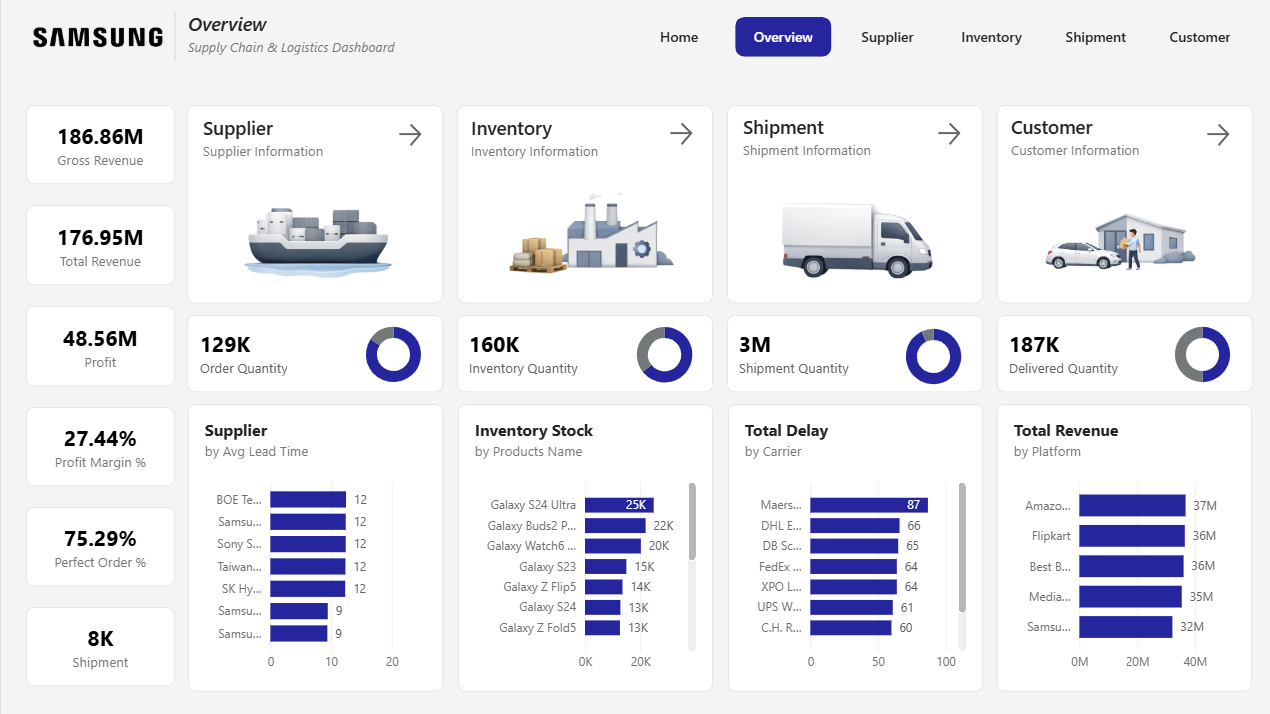

This screenshot's page, from the dashboard's own definition file:
{"tool":"powerbi","page":{"name":"Overview","canvas":[1280,720],"ordinal":1},"visuals":[{"type":"shape","box":[187.5,105.8,258,200],"z":0},{"type":"shape","box":[1003.8,105.8,258,200],"z":1000},{"type":"shape","box":[731.7,105.8,258,200],"z":2000},{"type":"shape","box":[459.6,105.8,258,200],"z":3000},{"type":"image","box":[228.8,167.3,174.4,137.1],"z":4000},{"type":"image","box":[493.9,155.2,191.5,150.2],"z":5000},{"type":"image","box":[773,178.4,175.4,114.9],"z":6000},{"type":"image","box":[1046.2,178.4,172.3,126],"z":7000},{"type":"actionButton","box":[390,115.9,44.3,39.3],"z":8000},{"type":"shape","title":"Supplier","box":[203.6,115.9,161.3,51.4],"z":9000},{"type":"shape","title":"Inventory","box":[473.7,115.9,161.3,51.4],"z":10000},{"type":"shape","title":"Shipment","box":[747.8,114.9,161.3,51.4],"z":11000},{"type":"shape","title":"Customer","box":[1018,114.9,161.3,51.4],"z":12000},{"type":"shape","title":"Overview","box":[188.5,11.1,236.9,51.4],"z":13000},{"type":"shape","box":[162.3,11.1,26.2,51.4],"z":14000},{"type":"image","box":[13.1,20.2,162.3,34.3],"z":15000},{"type":"cardVisual","fields":{"Data":["MeasuresTable.Profit"]},"box":[25.2,308.4,150.2,80.6],"z":16000},{"type":"cardVisual","fields":{"Data":["MeasuresTable.Profit Margin %"]},"box":[25.2,410.2,150.2,79.6],"z":17000},{"type":"cardVisual","fields":{"Data":["MeasuresTable.Perfect_Order %"]},"box":[25.2,511,150.2,79.6],"z":18000},{"type":"cardVisual","fields":{"Data":["MeasuresTable.Total_Shipment"]},"box":[25.2,611.8,150.2,79.6],"z":19000},{"type":"cardVisual","fields":{"Data":["Sum(fact_sales.gross_revenue)"]},"box":[25.2,105.8,150.2,79.6],"z":20000},{"type":"cardVisual","fields":{"Data":["MeasuresTable.Total_Revenue"]},"box":[25.2,206.6,150.2,80.6],"z":21000},{"type":"shape","box":[187.5,317.5,258,77.6],"z":22000},{"type":"shape","box":[459.6,317.5,258,77.6],"z":23000},{"type":"shape","box":[731.7,317.5,258,77.6],"z":24000},{"type":"shape","box":[1003.8,317.5,258,77.6],"z":25000},{"type":"cardVisual","fields":{"Data":["MeasuresTable.Order_QTY"]},"box":[188.5,317.5,117.9,74.6],"z":26000},{"type":"cardVisual","fields":{"Data":["MeasuresTable.Inventory_Value"]},"box":[459.6,317.5,136.1,74.6],"z":27000},{"type":"cardVisual","fields":{"Data":["MeasuresTable.Total_Shipment_Quantity"]},"box":[731.7,317.5,136.1,74.6],"z":28000},{"type":"cardVisual","fields":{"Data":["MeasuresTable.Total_Delivered_Quantity"]},"box":[1003.8,317.5,175.4,74.6],"z":29000},{"type":"clusteredBarChart","title":"Supplier","fields":{"Y":["MeasuresTable.Avg_Lead_Time"],"Category":["dim_supplier.supplier_name"]},"box":[188.5,407.2,257,290],"z":30000},{"type":"clusteredBarChart","title":"Inventory Stock","fields":{"Category":["dim_product.product_name"],"Y":["MeasuresTable.Inventory_Value"]},"box":[460.6,407.2,257,290],"z":31000},{"type":"clusteredBarChart","title":"Total Delay","fields":{"Y":["MeasuresTable.Total_Delay"],"Category":["fact_shipment.carrier"]},"box":[732.7,407.2,257,290],"z":32000},{"type":"clusteredBarChart","title":"Total Revenue","fields":{"Category":["dim_customer.customer_name"],"Y":["MeasuresTable.Total_Revenue"]},"box":[1003.8,407.2,257,290],"z":33000},{"type":"donutChart","fields":{"Y":["MeasuresTable.Inventory_Value","MeasuresTable.Safety_Stock"]},"box":[618.8,317.5,100,80],"z":34000},{"type":"donutChart","fields":{"Y":["MeasuresTable.Total_Shipment","MeasuresTable.Total_Delay"]},"box":[890,319.5,99.8,79.6],"z":35000},{"type":"donutChart","fields":{"Y":["MeasuresTable.Total_Delivered_Quantity","MeasuresTable.Total_QTY_Delay"]},"box":[1161.1,317.5,99.8,79.6],"z":36000},{"type":"donutChart","fields":{"Y":["MeasuresTable.Order_QTY","MeasuresTable.Defect_Rate"]},"box":[345.7,317.5,99.8,79.6],"z":37000},{"type":"actionButton","box":[663.2,114.9,44.3,39.3],"z":38000},{"type":"actionButton","box":[933.3,114.9,44.3,39.3],"z":39000},{"type":"actionButton","box":[1204.4,115.9,44.3,39.3],"z":40000},{"type":"pageNavigator","box":[635,17.1,622.9,40.3],"z":41000}]}

Visuals, with their boxes in screenshot pixels (x1, y1, x2, y2), scaled from the page's 1280x720 canvas onto the 1270x714 screenshot:
shape: 186/105/442/303
shape: 996/105/1252/303
shape: 726/105/982/303
shape: 456/105/712/303
image: 227/166/400/302
image: 490/154/680/303
image: 767/177/941/291
image: 1038/177/1209/302
actionButton: 387/115/431/154
"Supplier" shape: 202/115/362/166
"Inventory" shape: 470/115/630/166
"Shipment" shape: 742/114/902/165
"Customer" shape: 1010/114/1170/165
"Overview" shape: 187/11/422/62
shape: 161/11/187/62
image: 13/20/174/54
cardVisual - MeasuresTable.Profit: 25/306/174/386
cardVisual - MeasuresTable.Profit Margin %: 25/407/174/486
cardVisual - MeasuresTable.Perfect_Order %: 25/507/174/586
cardVisual - MeasuresTable.Total_Shipment: 25/607/174/686
cardVisual - Sum(fact_sales.gross_revenue): 25/105/174/184
cardVisual - MeasuresTable.Total_Revenue: 25/205/174/285
shape: 186/315/442/392
shape: 456/315/712/392
shape: 726/315/982/392
shape: 996/315/1252/392
cardVisual - MeasuresTable.Order_QTY: 187/315/304/389
cardVisual - MeasuresTable.Inventory_Value: 456/315/591/389
cardVisual - MeasuresTable.Total_Shipment_Quantity: 726/315/861/389
cardVisual - MeasuresTable.Total_Delivered_Quantity: 996/315/1170/389
"Supplier" clusteredBarChart: 187/404/442/691
"Inventory Stock" clusteredBarChart: 457/404/712/691
"Total Delay" clusteredBarChart: 727/404/982/691
"Total Revenue" clusteredBarChart: 996/404/1251/691
donutChart - MeasuresTable.Inventory_Value x MeasuresTable.Safety_Stock: 614/315/713/394
donutChart - MeasuresTable.Total_Shipment x MeasuresTable.Total_Delay: 883/317/982/396
donutChart - MeasuresTable.Total_Delivered_Quantity x MeasuresTable.Total_QTY_Delay: 1152/315/1251/394
donutChart - MeasuresTable.Order_QTY x MeasuresTable.Defect_Rate: 343/315/442/394
actionButton: 658/114/702/153
actionButton: 926/114/970/153
actionButton: 1195/115/1239/154
pageNavigator: 630/17/1248/57
